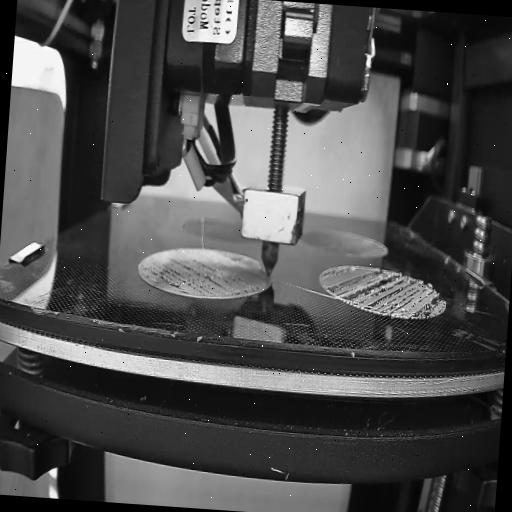under_extrusion: (320, 269, 446, 319), (139, 262, 262, 302)
